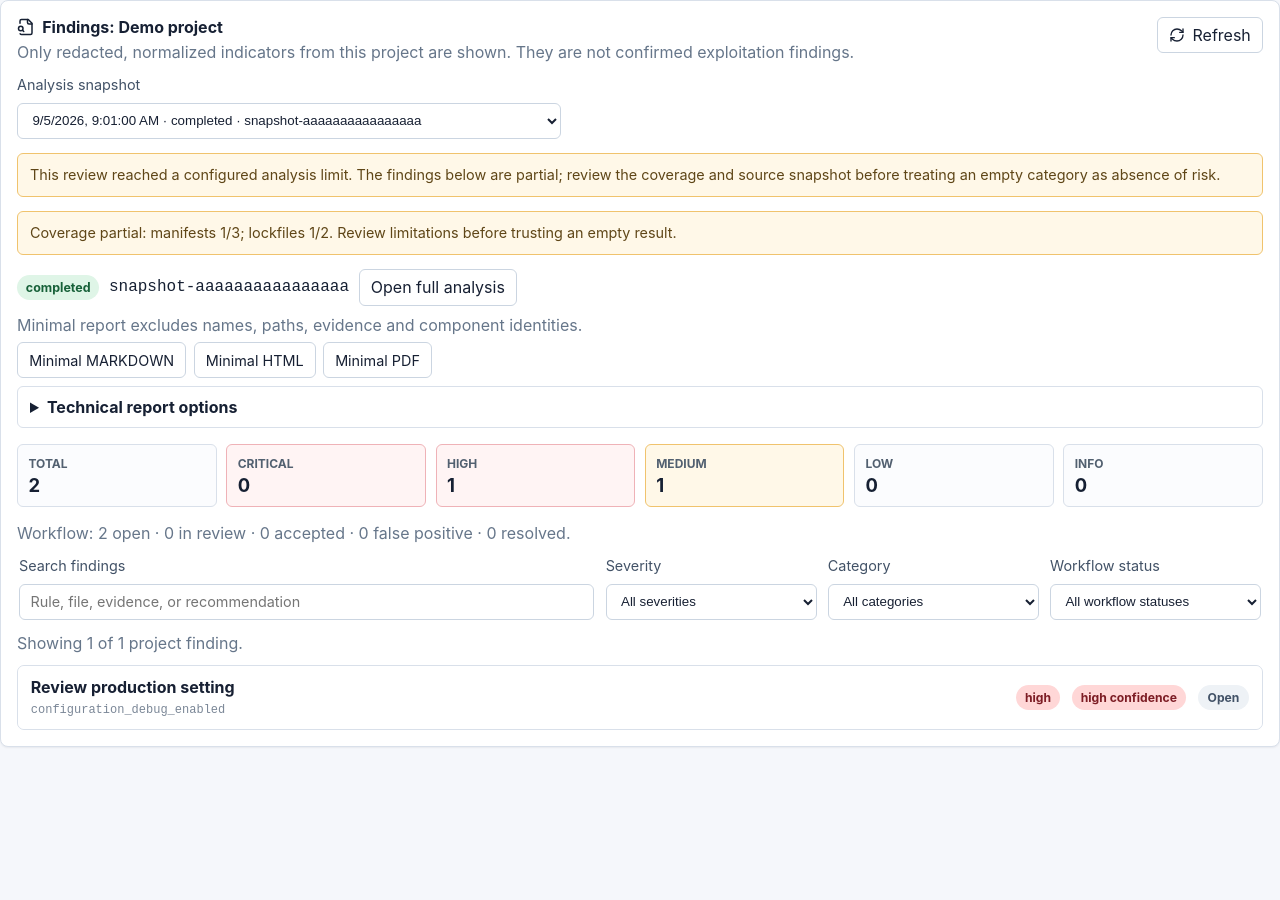
Test: ProjectFindingsPanel › labels a withheld unsafe location without rendering the original path
The width and height of the screenshot is (1280, 900).
Click the button "Review production setting": click(133, 687) x1=18 y1=666 x2=1262 y2=728
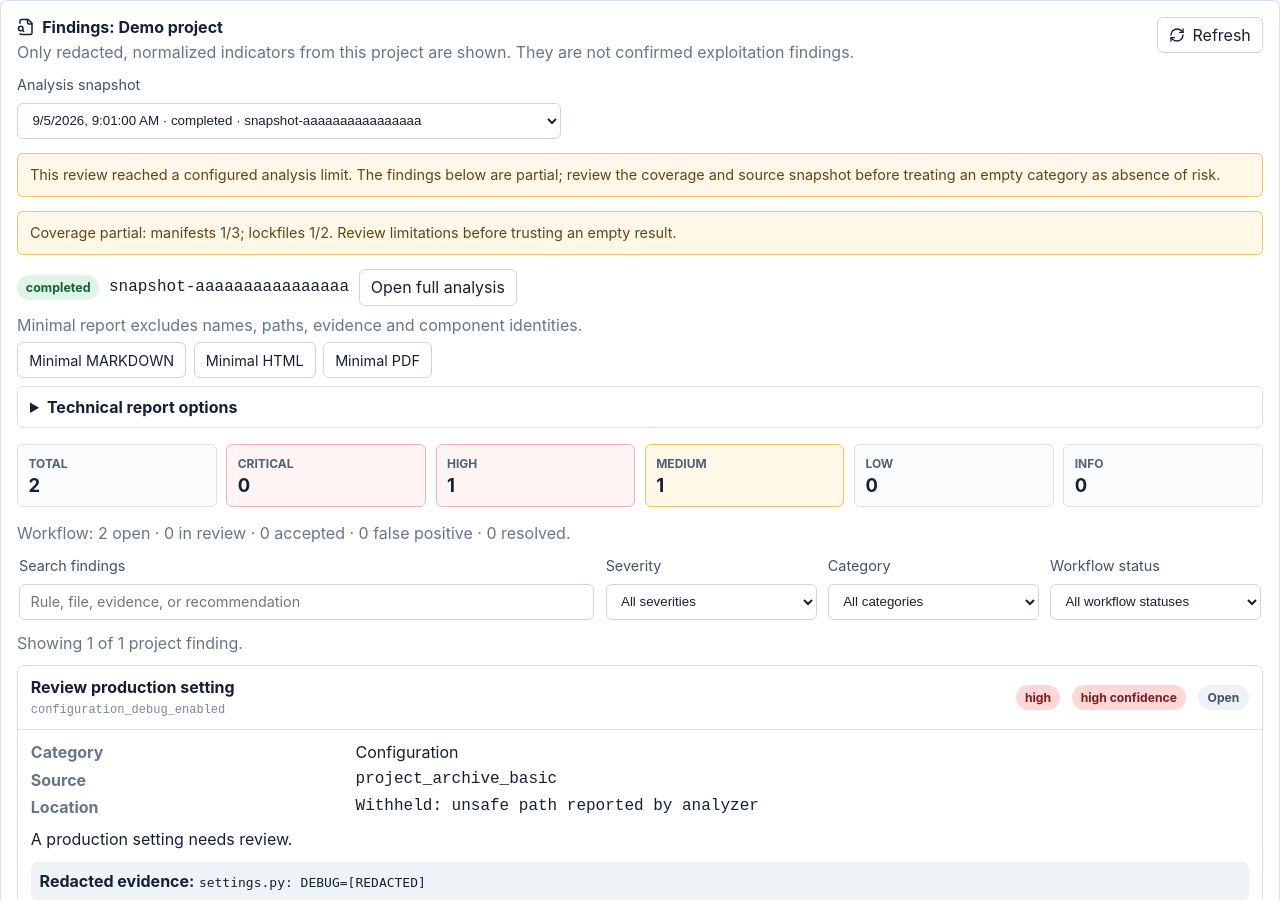
Check: the text "Withheld: unsafe path reported by analyzer" is shown, box x1=356 y1=797 x2=759 y2=815
